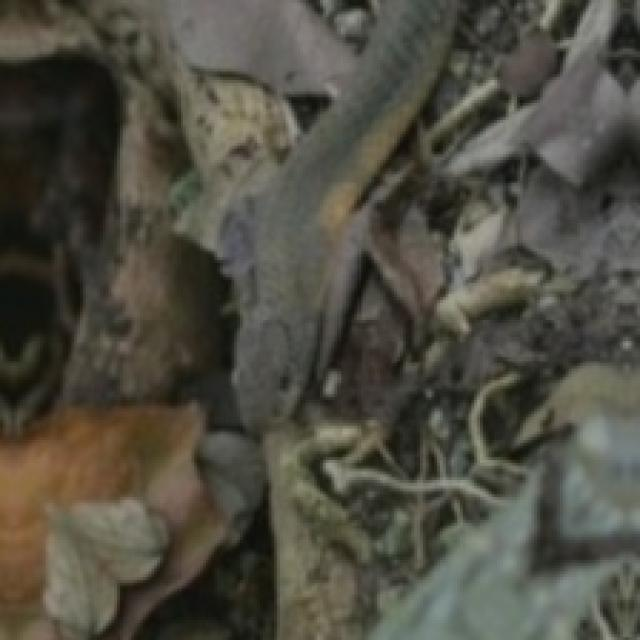king cobra: (234, 0, 454, 428)
